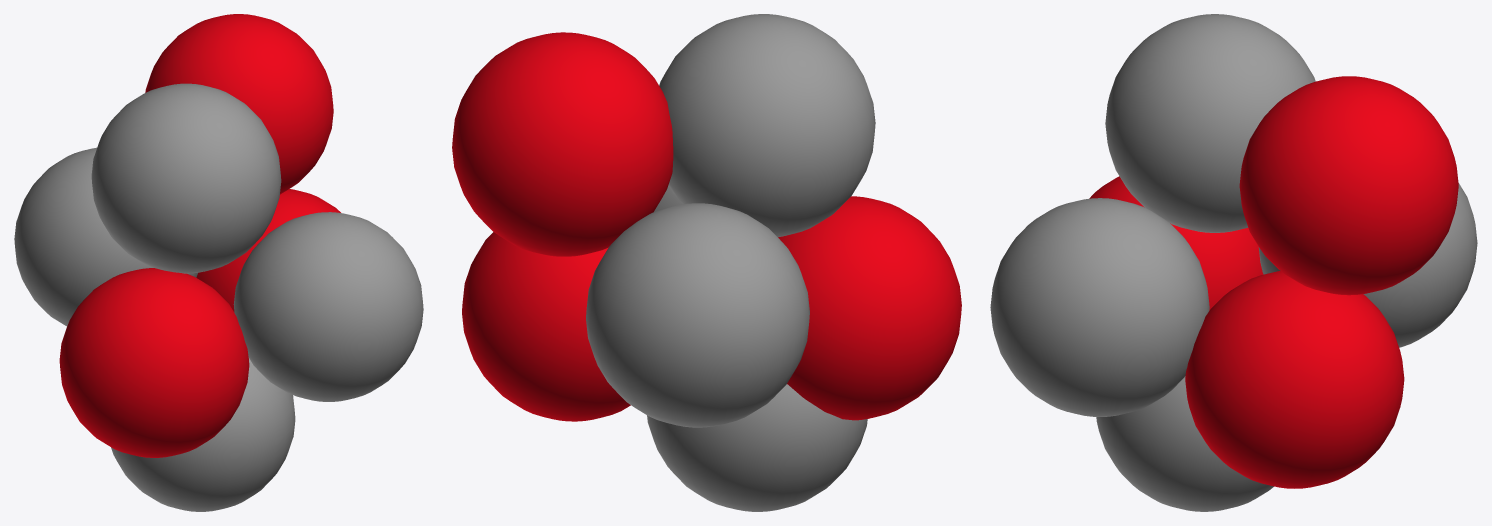
File: atom.gltf
3 views of the same model, side by side, from view 1: azimuth 30°, elevation 25°; view 2: azimuth 150°, elevation 25°; view 3: azimuth 270°, elevation 25° (orthographic). The views are drawn at different scales.
Visible parts, largest first — view 1: Sphere.005, Sphere.006, Sphere.004, Sphere.007, Sphere.002, Sphere.003, Sphere.001; view 2: Sphere.002, Sphere.007, Sphere.005, Sphere.006, Sphere.001, Sphere.003; view 3: Sphere.007, Sphere.004, Sphere.001, Sphere.005, Sphere.003, Sphere.002, Sphere.006.
Part boxes in pixels (x1,y1,x2,y2): Sphere.005: [91, 83, 281, 273]; Sphere.006: [59, 268, 249, 457]; Sphere.004: [233, 212, 423, 401]; Sphere.007: [145, 14, 333, 194]; Sphere.002: [14, 147, 197, 326]; Sphere.003: [111, 358, 295, 511]; Sphere.001: [196, 189, 340, 311]; Sphere.002: [586, 203, 809, 427]; Sphere.007: [452, 32, 673, 256]; Sphere.005: [659, 14, 875, 237]; Sphere.006: [778, 196, 961, 420]; Sphere.001: [462, 232, 630, 421]; Sphere.003: [647, 384, 867, 511]; Sphere.007: [1239, 76, 1458, 295]; Sphere.004: [990, 198, 1209, 416]; Sphere.001: [1185, 271, 1404, 488]; Sphere.005: [1105, 14, 1315, 232]; Sphere.003: [1096, 376, 1273, 511]; Sphere.002: [1258, 183, 1477, 347]; Sphere.006: [1089, 176, 1263, 310].
Size of the model in its own units: 4.17 by 4.75 by 4.44.
